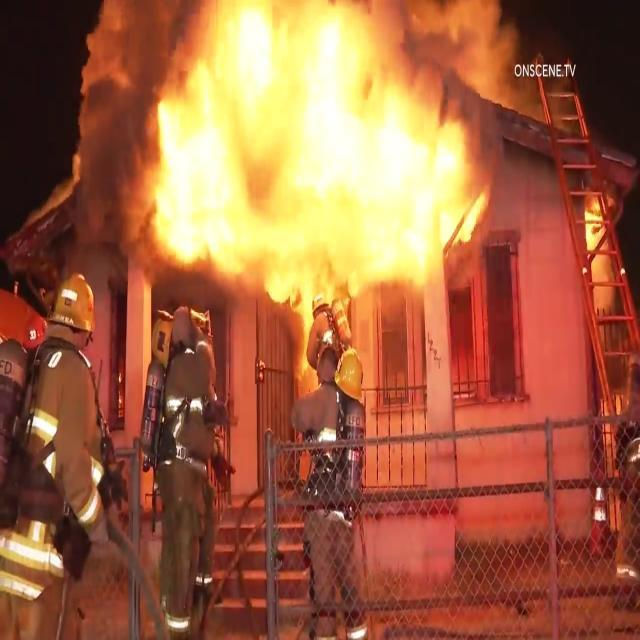Fire: (136, 1, 497, 302)
Smoke: (66, 1, 165, 266)
